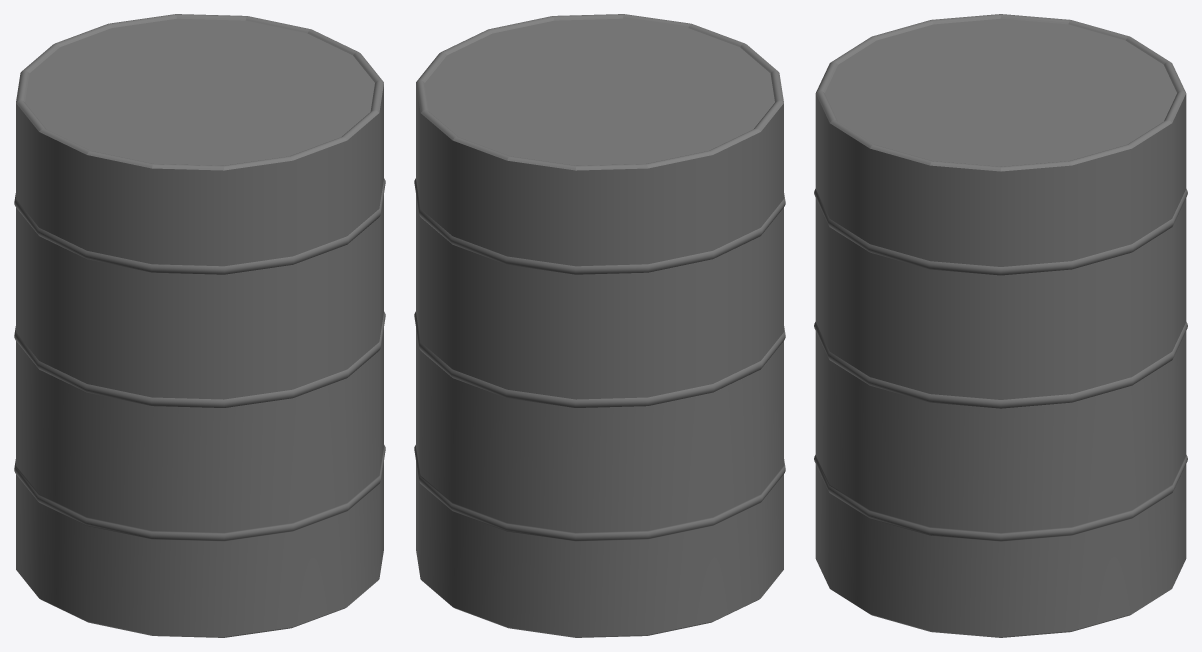
Rendered from Barrel.fbx.
3 renders of one model, left to right at view 1: azimuth 30°, elevation 25°; view 2: azimuth 150°, elevation 25°; view 3: azimuth 270°, elevation 25°, orthographic.
Parts seen in each view (by area): view 1: Barrel; view 2: Barrel; view 3: Barrel.
Part boxes in pixels (left/top/right/bottom): Barrel: left=14, top=14, right=385, bottom=637; Barrel: left=414, top=14, right=785, bottom=637; Barrel: left=814, top=14, right=1187, bottom=637.
Bounding box in the file's own units: 2.02 × 2.8 × 2.02.
Materials: 1 (1 with a texture image).
